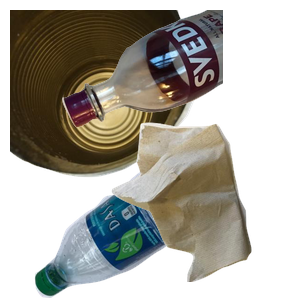glass: (60, 10, 300, 130)
metal: (10, 10, 200, 180)
plastic: (32, 154, 242, 300)
trash: (109, 120, 300, 300)
